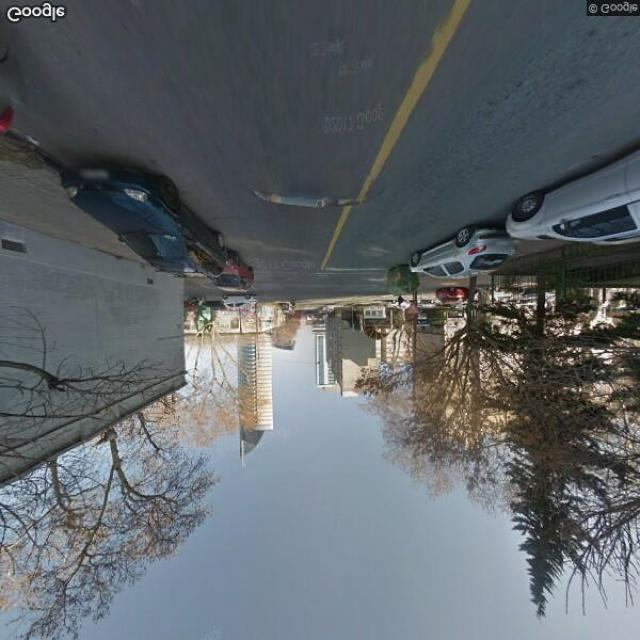garbage container: (385, 262, 423, 302)
